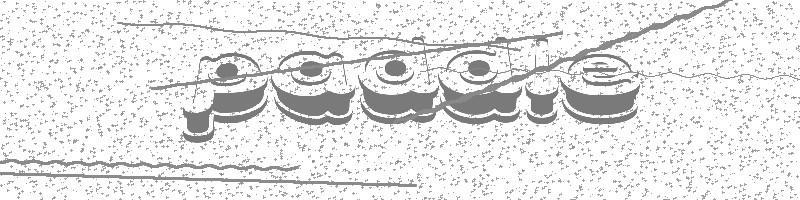a: (271, 52, 354, 125)
d: (439, 37, 523, 124), (358, 38, 438, 123)
e: (560, 54, 639, 123)
l: (527, 37, 558, 123)
p: (185, 53, 268, 144)
